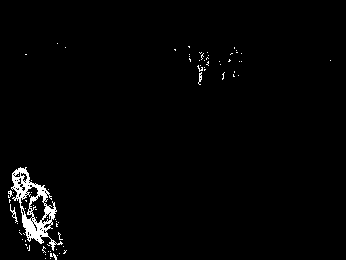person: (10, 166, 66, 260)
